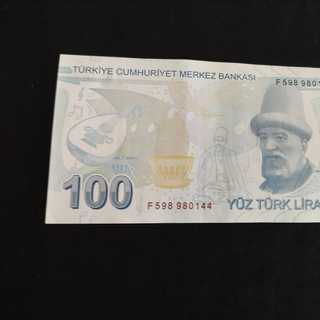100TLBack: (44, 53, 320, 225)
